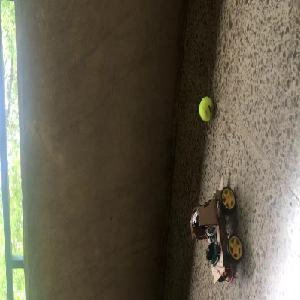Ball: (199, 96, 212, 121)
Robot: (189, 178, 243, 284)
